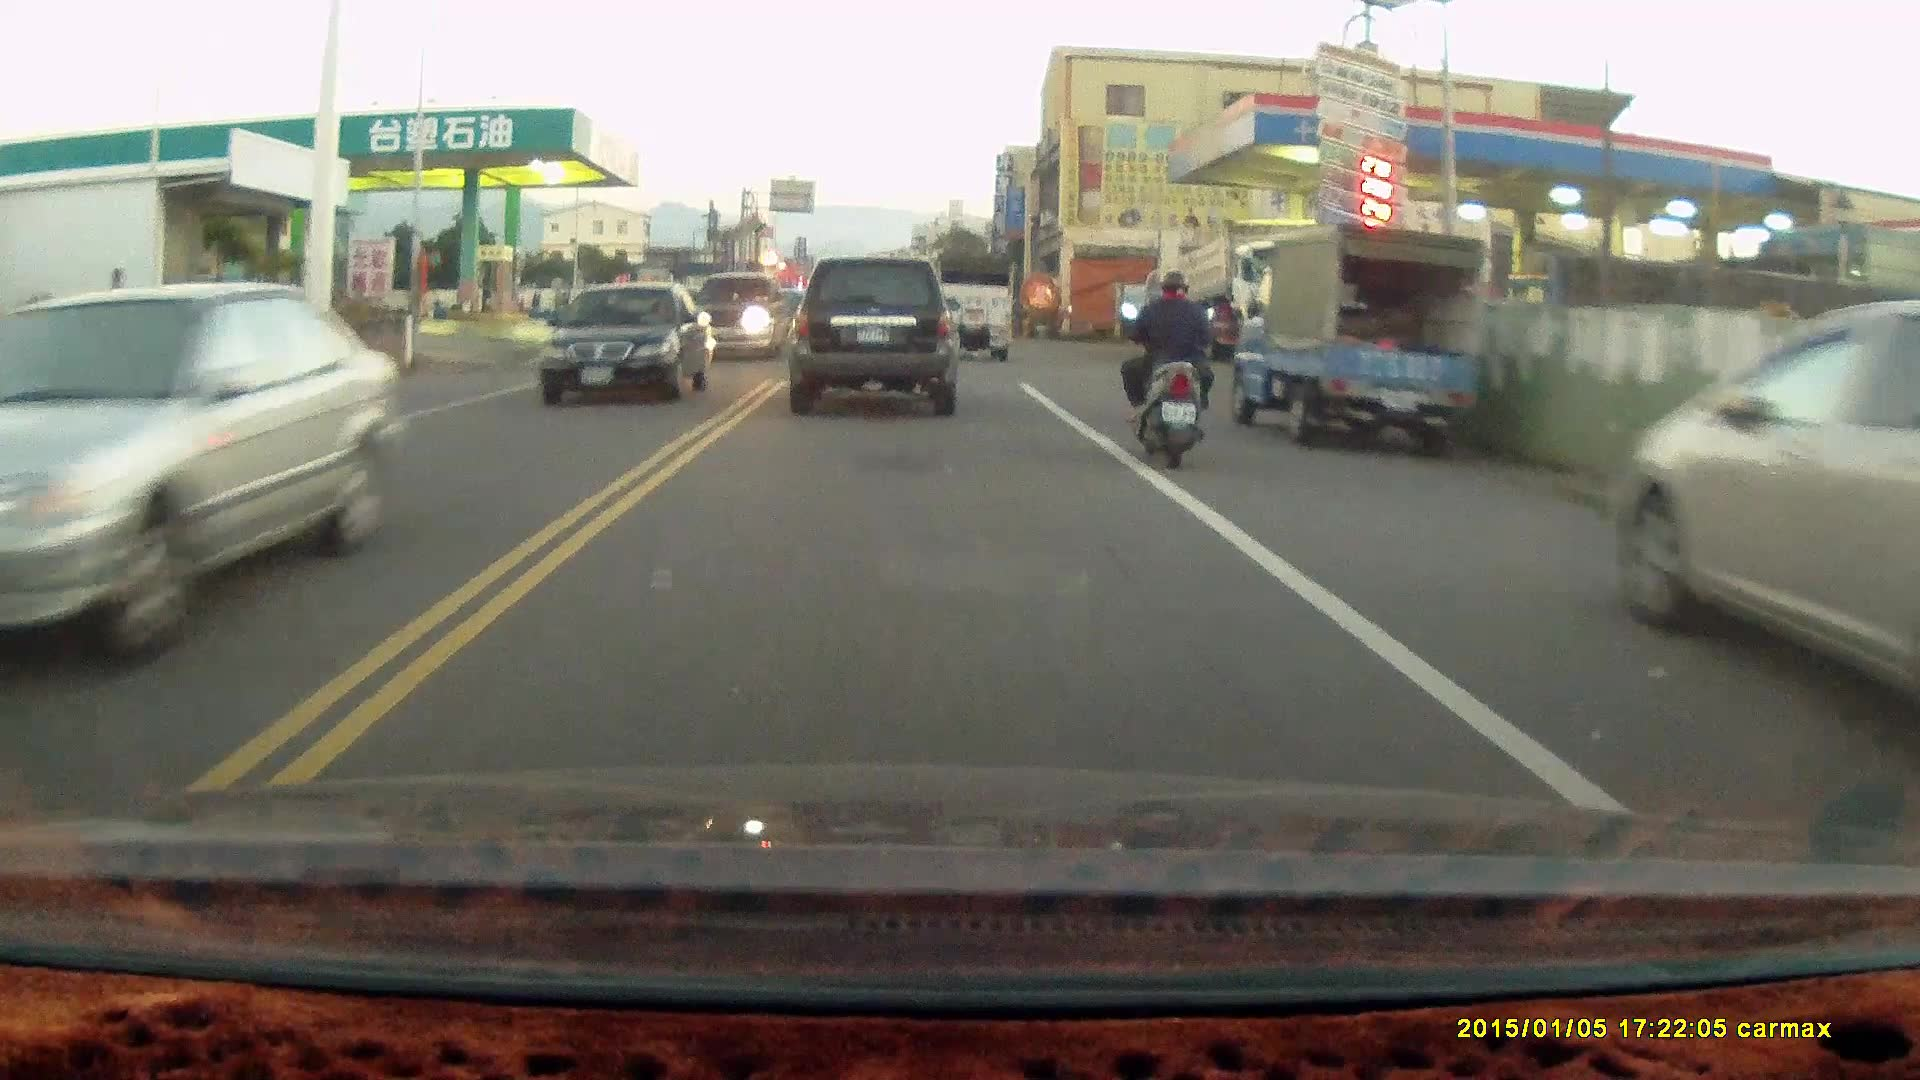rider: (1119, 272, 1220, 469)
vehicle: (1, 277, 400, 680), (1608, 297, 1920, 745), (1232, 222, 1492, 447), (787, 255, 959, 411), (542, 284, 719, 405), (921, 250, 1018, 361), (687, 272, 791, 369)
